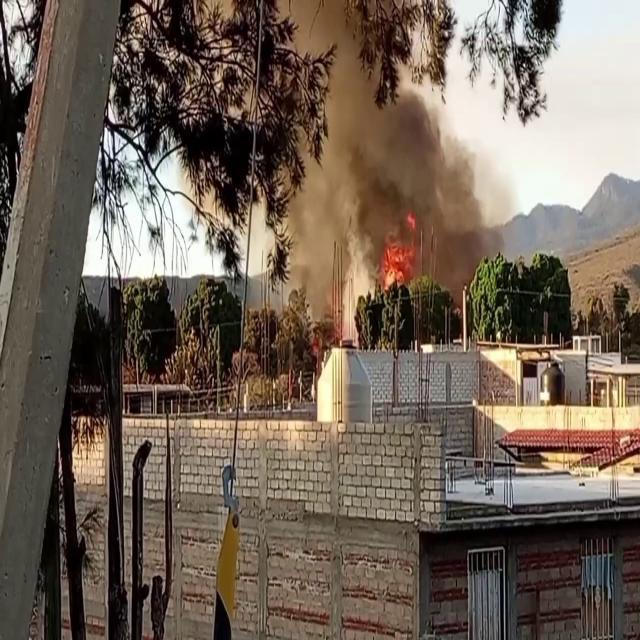Fire: (378, 215, 424, 293)
Smoke: (284, 4, 498, 300)
